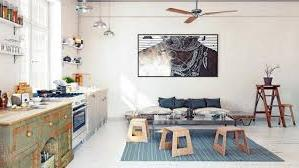chair: (158, 126, 191, 161), (210, 128, 251, 156), (125, 119, 148, 149), (278, 102, 296, 126)
door: (28, 1, 54, 90)
fan: (165, 2, 239, 24)
light: (104, 1, 116, 40), (92, 2, 107, 32), (75, 1, 92, 14)
sofa: (152, 96, 229, 139)
table: (254, 84, 286, 129), (229, 111, 256, 125)
